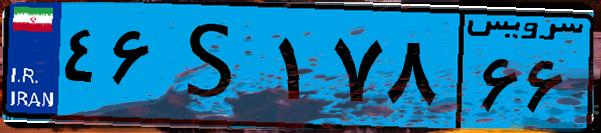1: (270, 28, 330, 110)
4: (57, 26, 110, 100)
6: (475, 38, 525, 113), (525, 38, 570, 115), (110, 28, 158, 98)
7: (330, 28, 385, 110)
8: (385, 28, 445, 110)
S: (158, 12, 270, 120)
